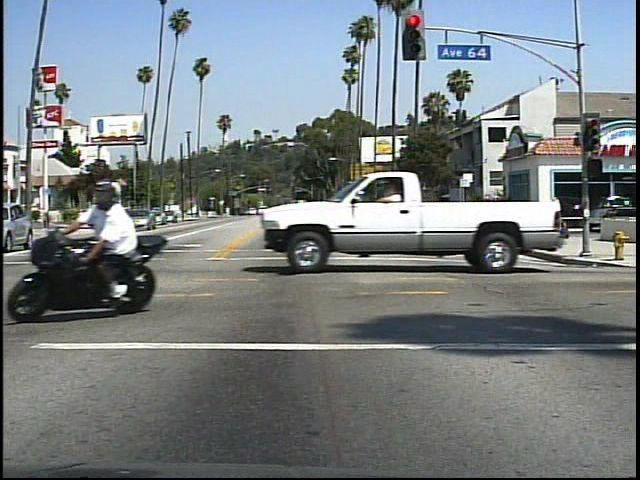person: (78, 177, 157, 311), (542, 193, 569, 246)
